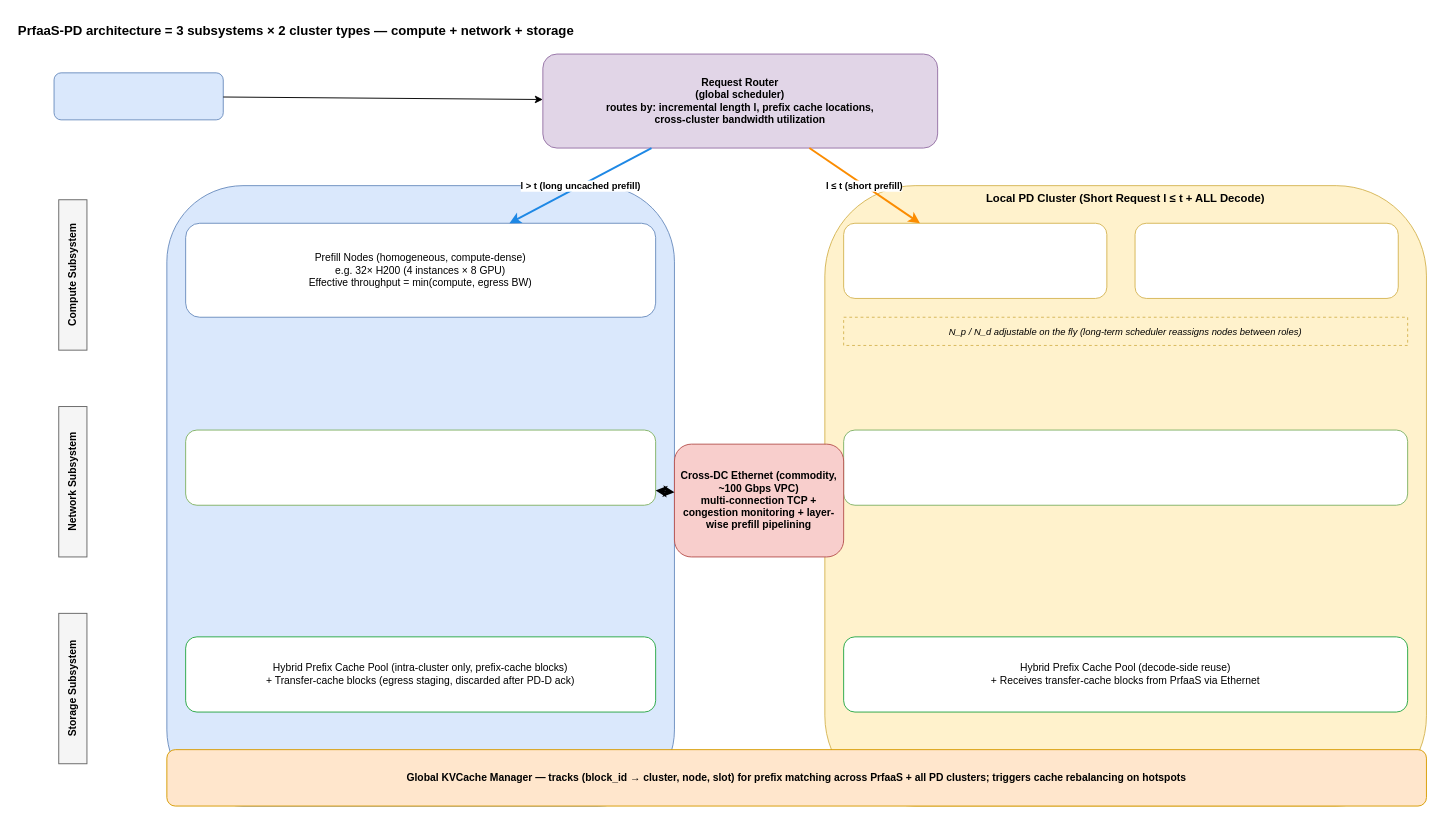
This 1443x823 diagram has some shape labels left out. Each missing label, with the box of its shape:
Intra-cluster RDMA (PD KV transfer + collectives) 800 Gbps per node: (843, 429, 1408, 505)
Intra-cluster RDMA (TP / EP collectives) 800 Gbps per node, latency-sensitive: (185, 429, 656, 505)
PD-D (decode) Nodes (N_d) sole consumer of KVCache from both PrfaaS & PD-P: (1134, 222, 1398, 298)
PD-P (prefill) Nodes (N_p): (843, 222, 1107, 298)
PrfaaS Cluster (Long Request, l > t): (166, 185, 674, 806)
User Requests: (53, 72, 223, 120)
